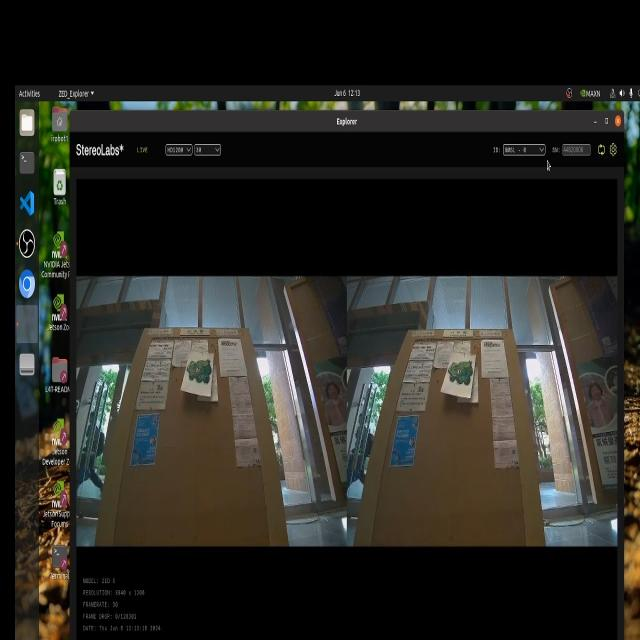green: (445, 356, 470, 396), (190, 360, 214, 388)
